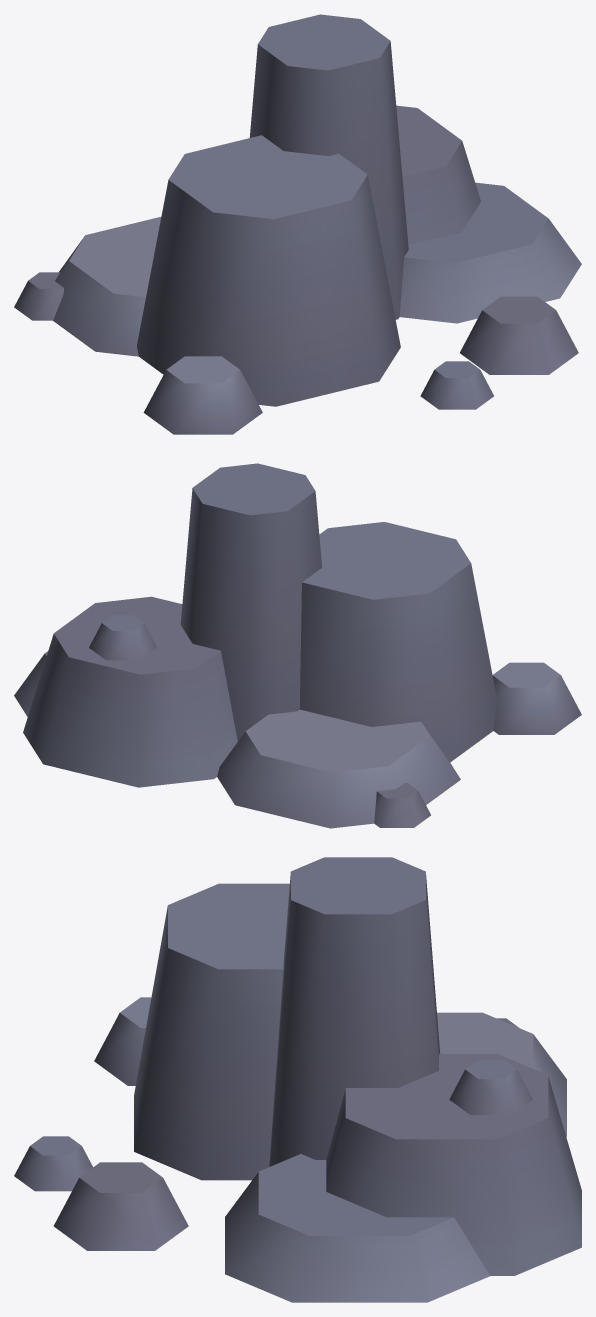
The model's file is stones.glb.
3 views of the same model, one above another, from view 1: azimuth 30°, elevation 25°; view 2: azimuth 150°, elevation 25°; view 3: azimuth 270°, elevation 25° (orthographic). The views are drawn at different scales.
Visible parts, largest first — view 1: stones; view 2: stones; view 3: stones.
Boxes of the visible parts, box(x1,y1,x2,y2) form: stones: box(14, 14, 581, 434); stones: box(14, 463, 581, 828); stones: box(14, 857, 581, 1302).
Bounding box in the file's own units: 0.8924 × 0.4539 × 0.8046.
1 material, 1 textured.
